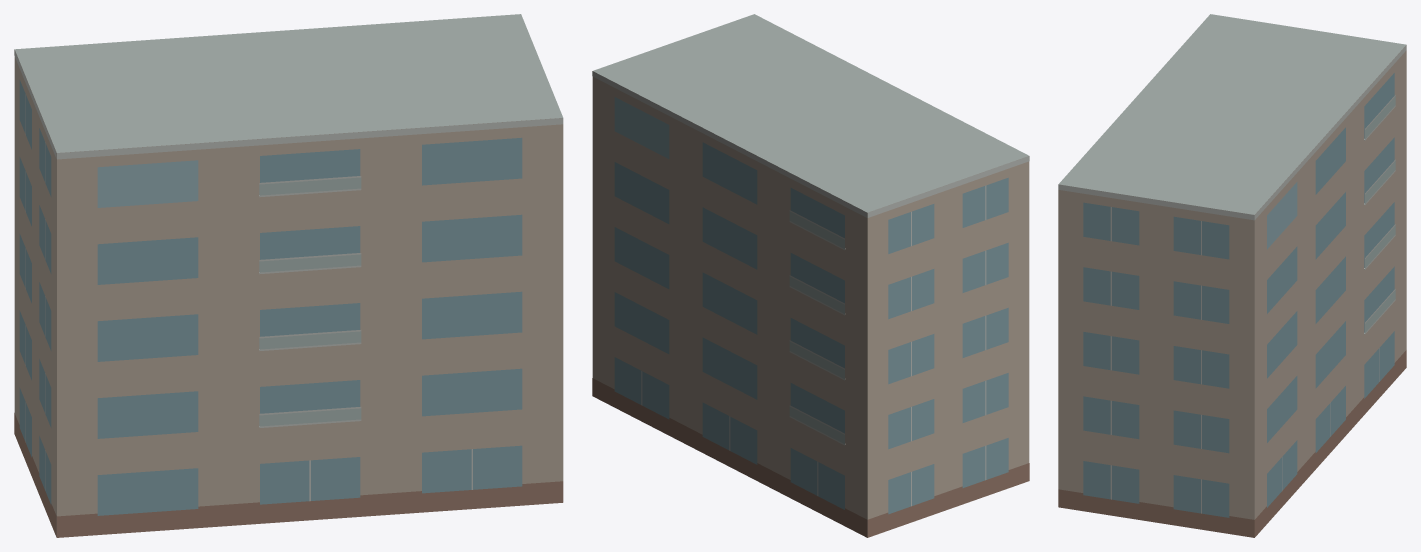
File: survey-upis-33022326.glb
The picture shows the model from 3 angles, left to right: view 1: azimuth 30°, elevation 25°; view 2: azimuth 150°, elevation 25°; view 3: azimuth 270°, elevation 25°; orthographic projection. The views are drawn at different scales.
Visible parts, largest first — view 1: survey-upis-33022326.tmp; view 2: survey-upis-33022326.tmp; view 3: survey-upis-33022326.tmp.
Part boxes in pixels (left/top/right/bottom): survey-upis-33022326.tmp: left=14, top=14, right=563, bottom=537; survey-upis-33022326.tmp: left=592, top=14, right=1029, bottom=537; survey-upis-33022326.tmp: left=1058, top=14, right=1406, bottom=537.
Size of the model in its own units: 19.36 by 14.5 by 14.18.
